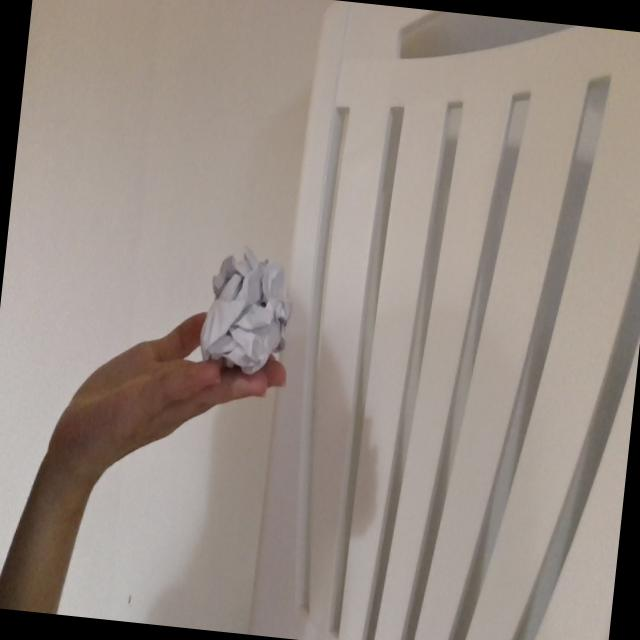crumpled_paper: (196, 237, 300, 383)
